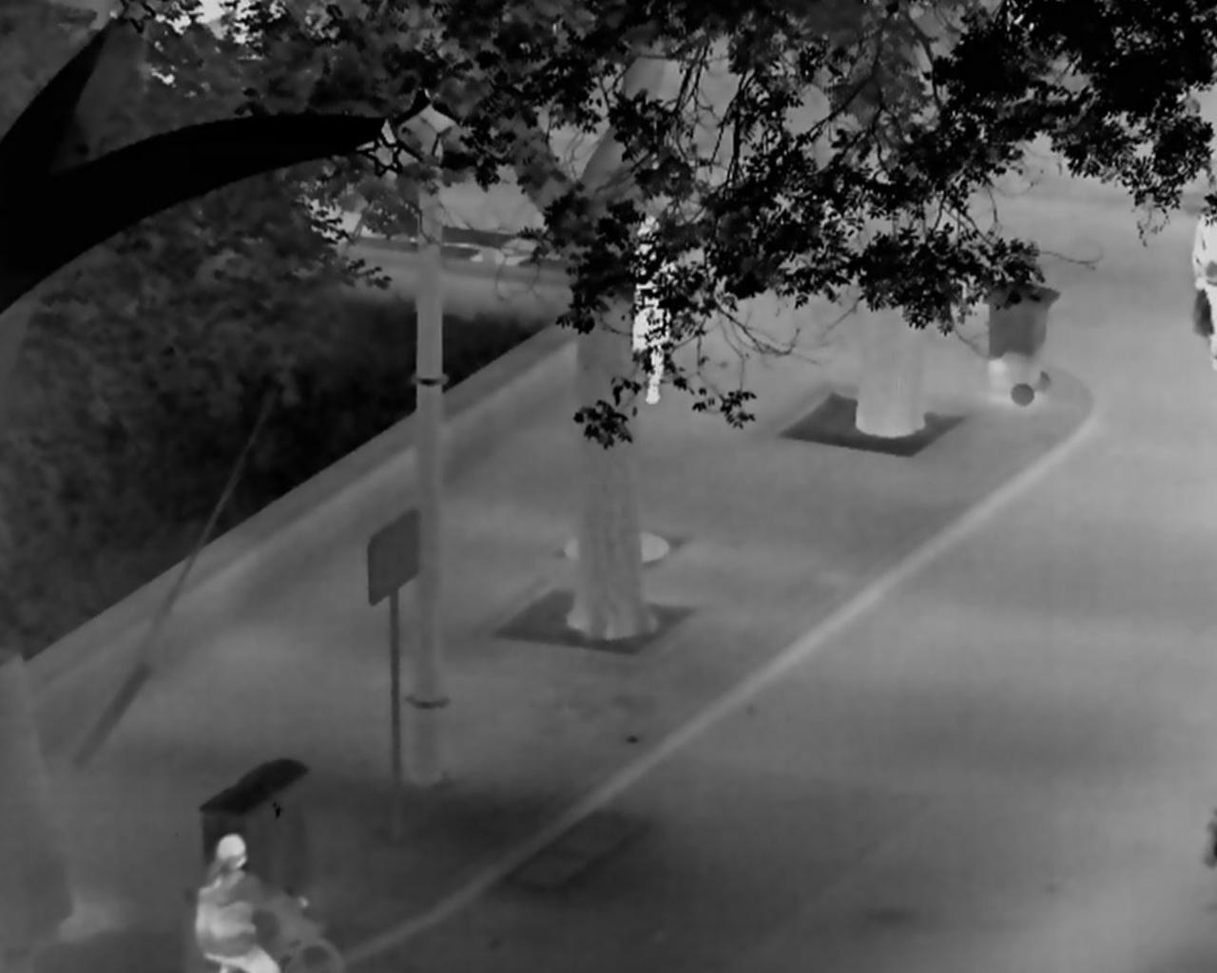person: (193, 833, 312, 973), (633, 213, 674, 405), (1192, 197, 1217, 372)
